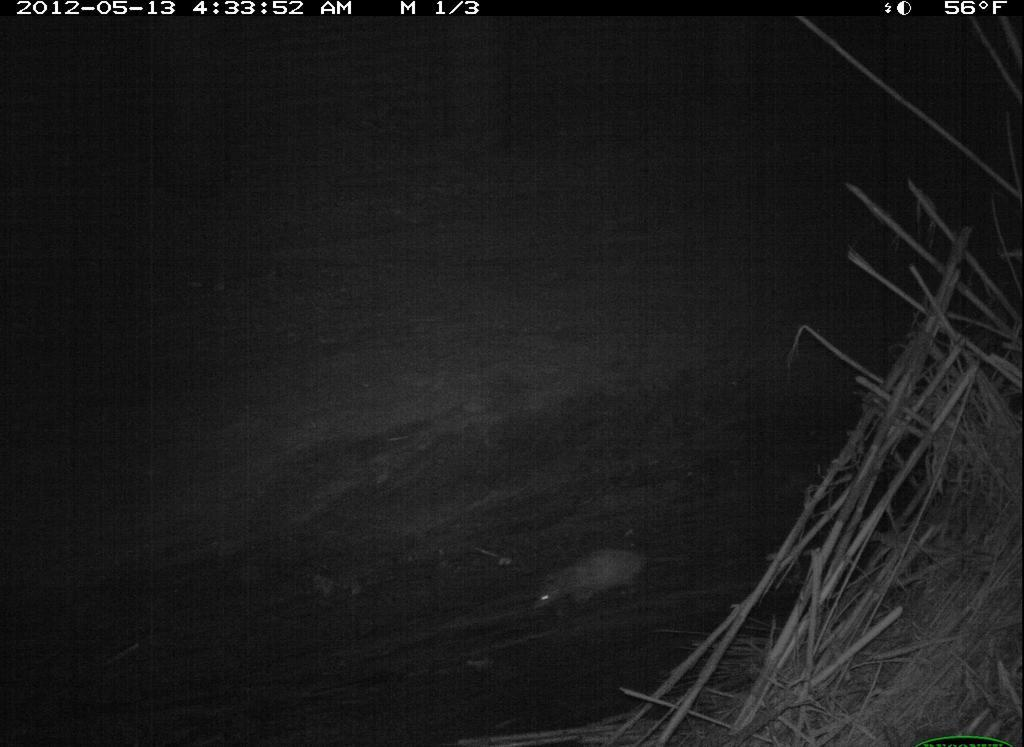opossum: (521, 530, 690, 626)
